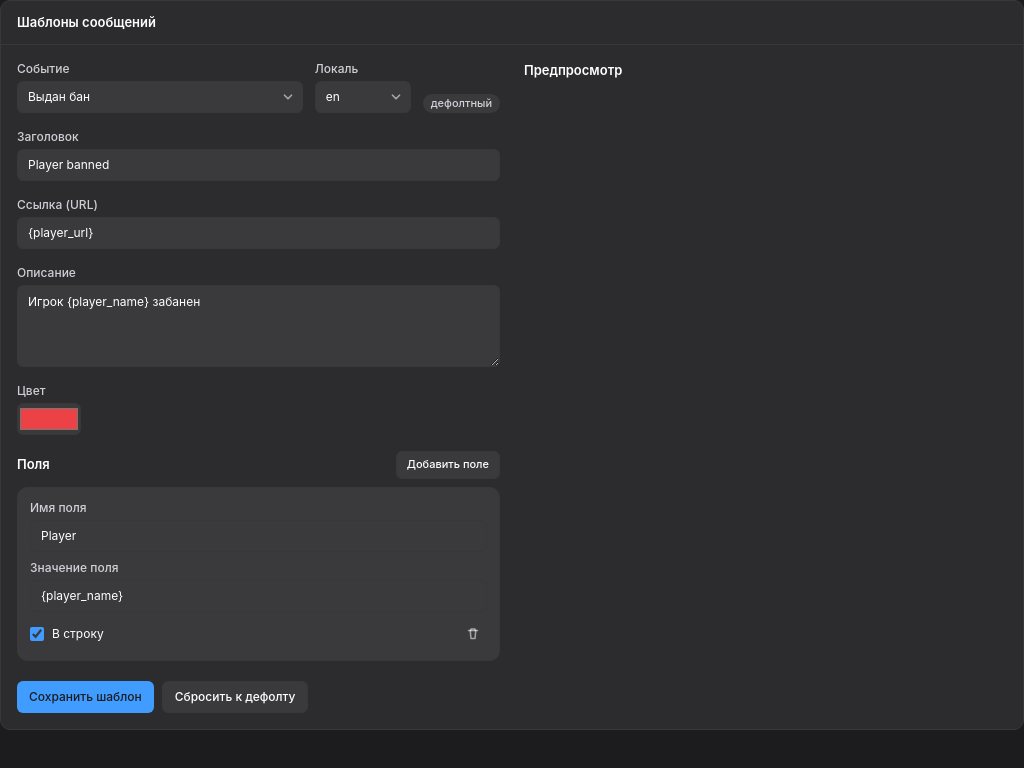
Scenario: DiscordTemplatesSection › adds and removes an embed field
This screenshot has width=1024, height=768.
Expected: the field labelled "Заголовок" is shown, [17, 149, 500, 181]
Expected: the number of buttons named "Удалить поле" is 1, [459, 620, 487, 648]
Click the button "Добавить поле".
click(448, 465)  # box [396, 451, 500, 479]
(page scrolled)
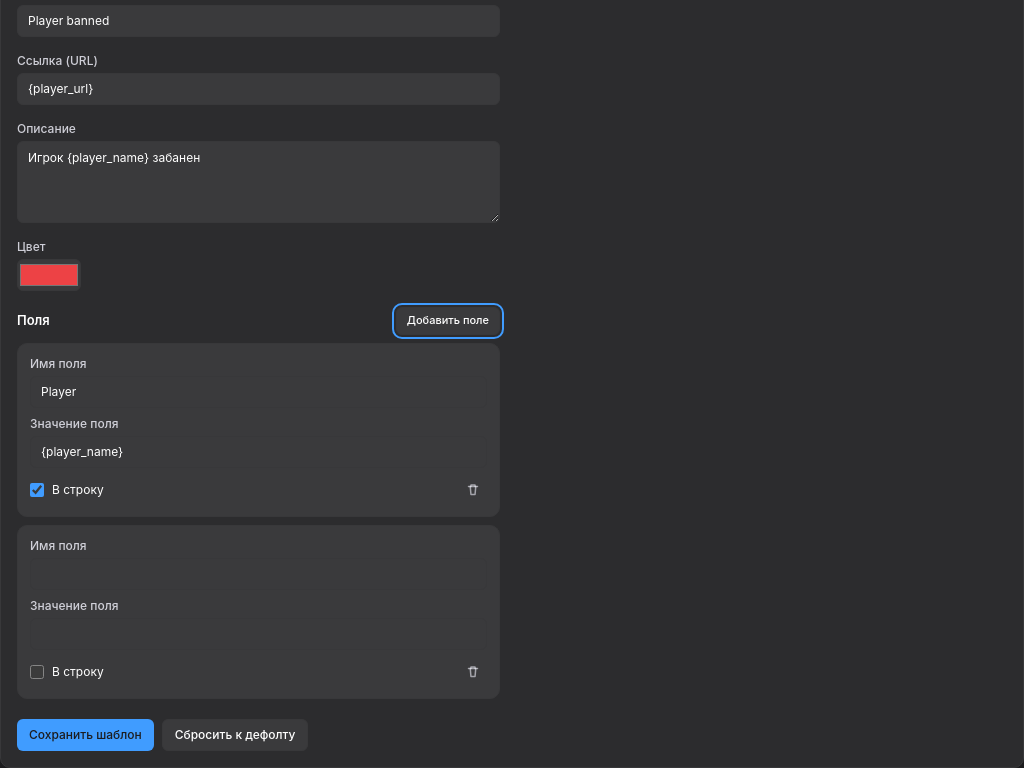
Now the number of buttons named "Удалить поле" is 2
Click the 2nd button named "Удалить поле".
click(473, 672)  # box [459, 658, 487, 686]
(page scrolled)
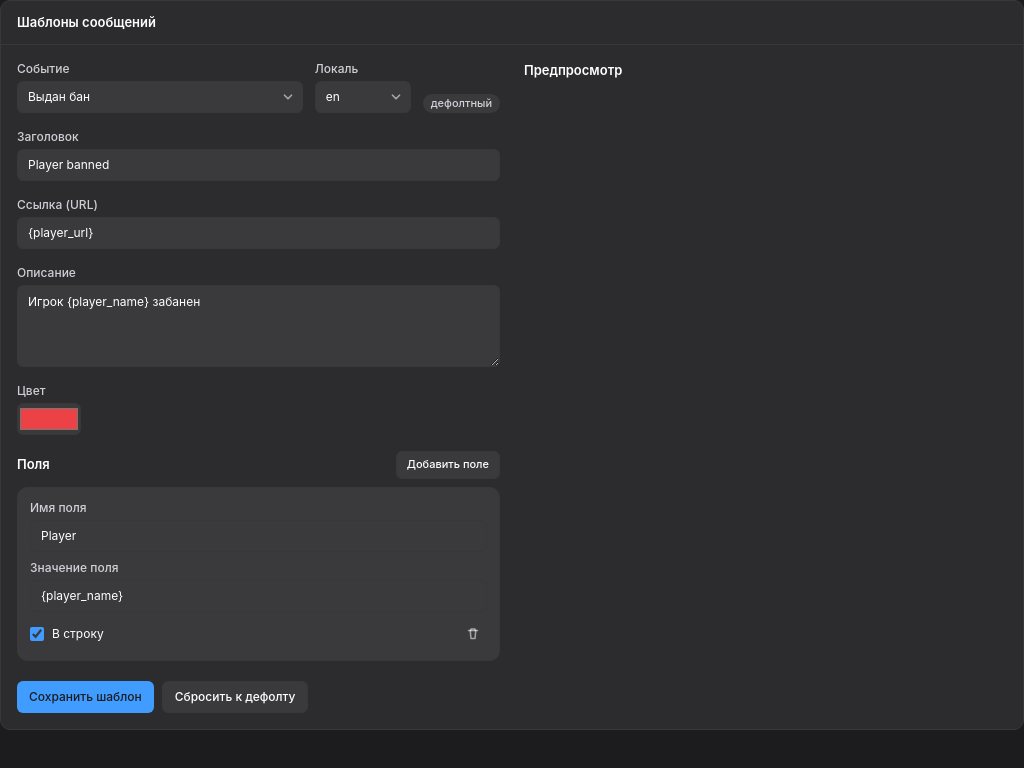
Now the number of buttons named "Удалить поле" is 1, box [459, 620, 487, 648]
